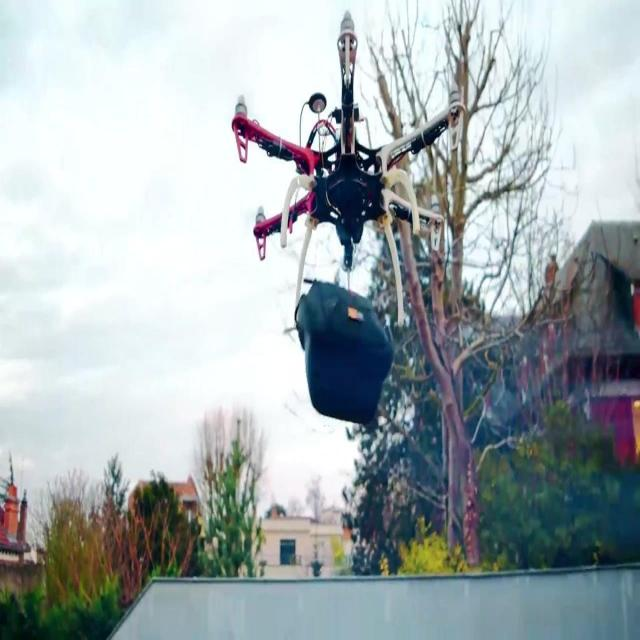UAV: (231, 10, 465, 336)
